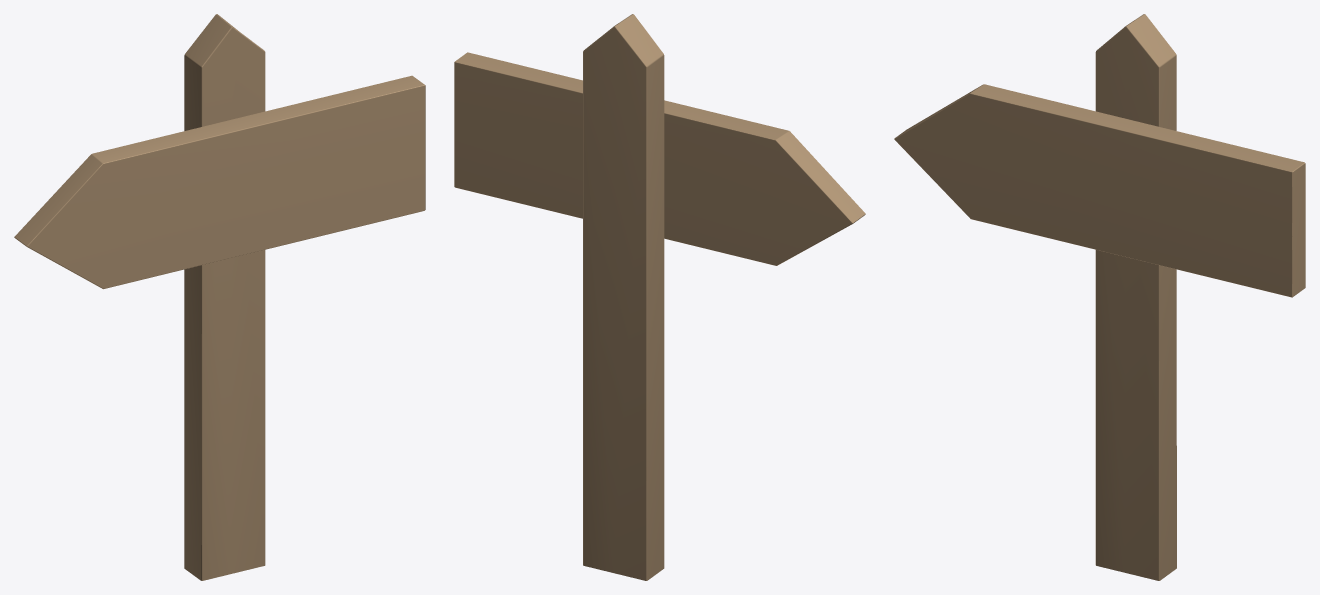
Rendered from signpost.glb.
3 renders of one model, left to right at view 1: azimuth 30°, elevation 25°; view 2: azimuth 150°, elevation 25°; view 3: azimuth 330°, elevation 25°, orthographic.
Visible parts, largest first — view 1: pCube3; view 2: pCube3; view 3: pCube3.
Boxes of the visible parts, box(x1,y1,x2,y2) form: pCube3: box(14, 14, 425, 580); pCube3: box(454, 14, 865, 580); pCube3: box(894, 14, 1305, 580).
Size of the model in its own units: 1.4 by 1.83 by 0.1901.
